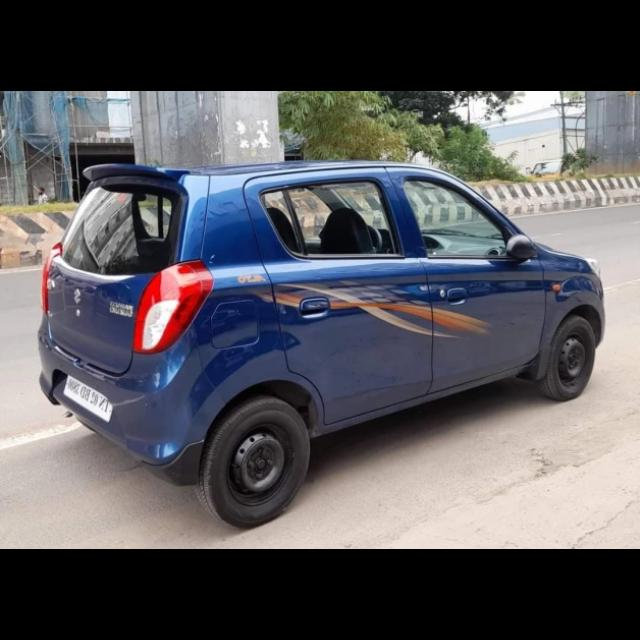vehicles: (46, 160, 604, 528), (528, 158, 566, 178)
